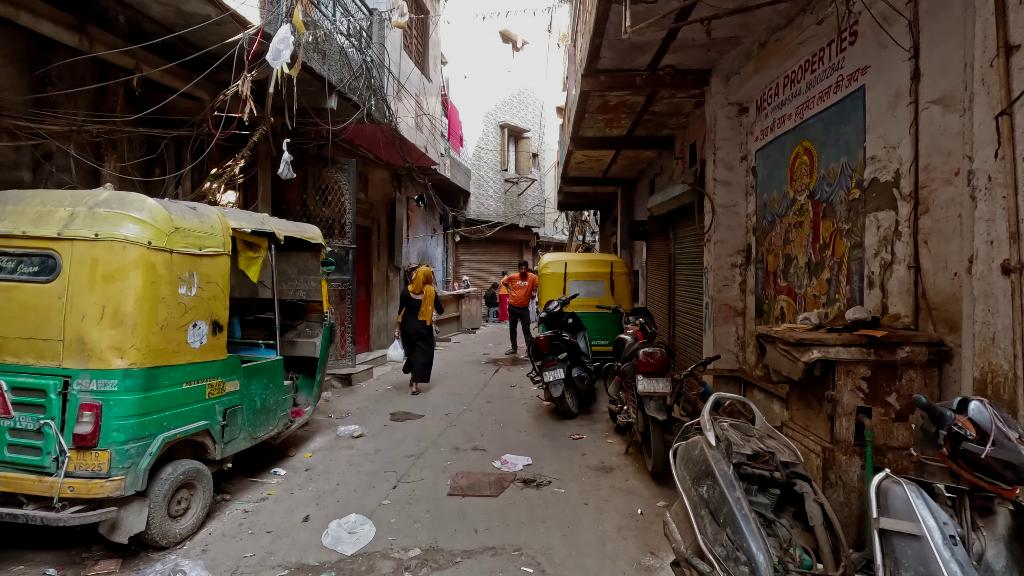garbage: (320, 511, 380, 557), (492, 453, 533, 472), (385, 339, 405, 366), (334, 425, 369, 439)
